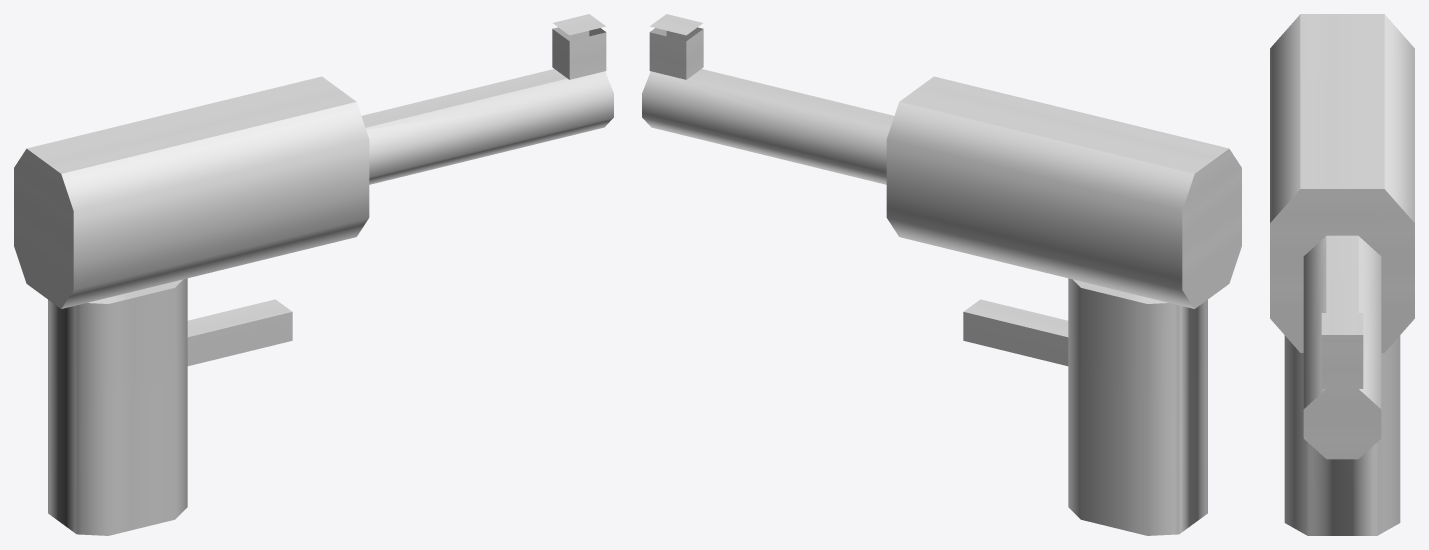
File: revolver.obj
The picture shows the model from 3 angles, left to right: view 1: azimuth 30°, elevation 25°; view 2: azimuth 150°, elevation 25°; view 3: azimuth 270°, elevation 25°; orthographic projection. The views are drawn at different scales.
Parts seen in each view (by area): view 1: receiver, stock_or_grip, barrel_muzzle, butt_or_trigger, front_sight; view 2: receiver, stock_or_grip, barrel_muzzle, butt_or_trigger, front_sight; view 3: receiver, stock_or_grip, barrel_muzzle, front_sight.
Part boxes in pixels (x1=…): receiver: x1=14, y1=76, x2=369, y2=308; stock_or_grip: x1=48, y1=278, x2=187, y2=535; barrel_muzzle: x1=361, y1=69, x2=613, y2=184; butt_or_trigger: x1=187, y1=299, x2=292, y2=366; front_sight: x1=552, y1=14, x2=606, y2=79; receiver: x1=886, y1=76, x2=1241, y2=308; stock_or_grip: x1=1068, y1=278, x2=1207, y2=535; barrel_muzzle: x1=642, y1=69, x2=894, y2=184; butt_or_trigger: x1=963, y1=299, x2=1068, y2=366; front_sight: x1=649, y1=14, x2=703, y2=79; receiver: x1=1270, y1=14, x2=1414, y2=352; stock_or_grip: x1=1284, y1=335, x2=1400, y2=535; barrel_muzzle: x1=1303, y1=235, x2=1381, y2=459; front_sight: x1=1321, y1=313, x2=1363, y2=388.
Size of the model in its own units: 0.3 by 0.193 by 0.056.
